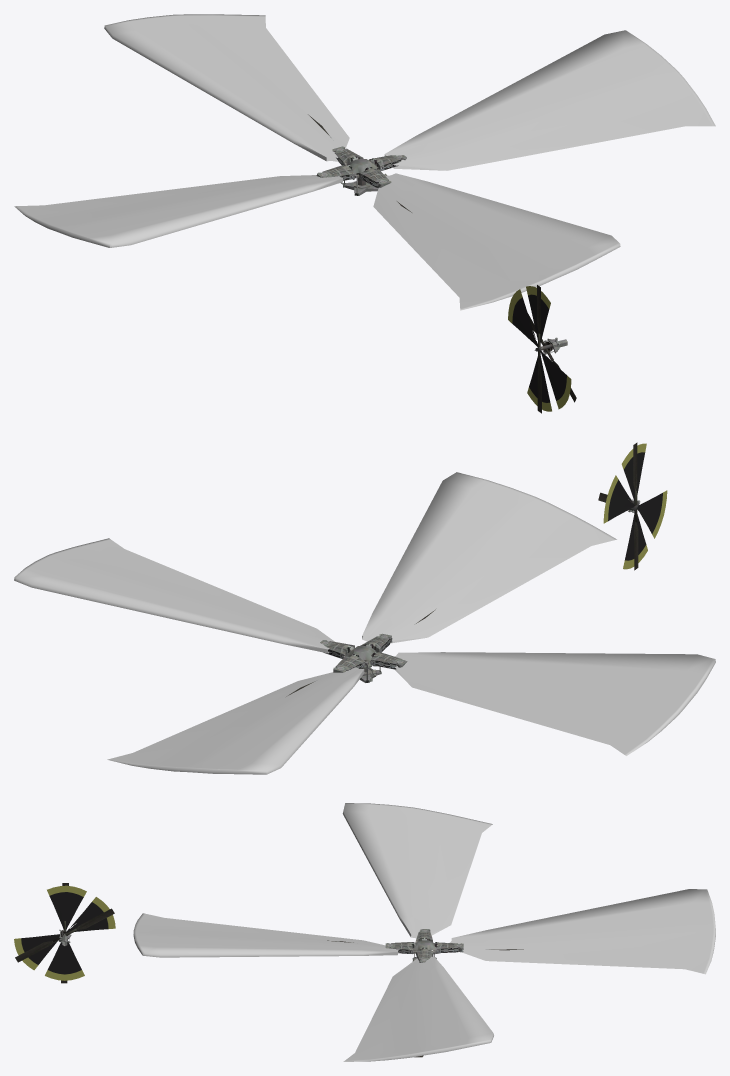
Rendered from Rotores.fbx.
3 views of the same model, one above another, from view 1: azimuth 30°, elevation 25°; view 2: azimuth 150°, elevation 25°; view 3: azimuth 270°, elevation 25° (orthographic). The views are drawn at different scales.
Visible parts, largest first — view 1: moving_rotor, moving_rotor2, static_rotor, static_rotor2; view 2: moving_rotor, moving_rotor2, static_rotor, static_rotor2; view 3: moving_rotor, moving_rotor2, static_rotor, static_rotor2.
Part boxes in pixels (<box>): moving_rotor: <box>14,14,715,310</box>; moving_rotor2: <box>508,286,571,411</box>; static_rotor: <box>308,114,411,212</box>; static_rotor2: <box>527,285,576,413</box>; moving_rotor: <box>14,472,715,774</box>; moving_rotor2: <box>603,443,667,569</box>; static_rotor: <box>286,609,435,696</box>; static_rotor2: <box>598,442,640,570</box>; moving_rotor: <box>133,803,715,1061</box>; moving_rotor2: <box>14,885,115,980</box>; static_rotor: <box>327,929,523,1057</box>; static_rotor2: <box>15,883,114,983</box>.
Size of the model in its own units: 1469 by 281 by 1775.
